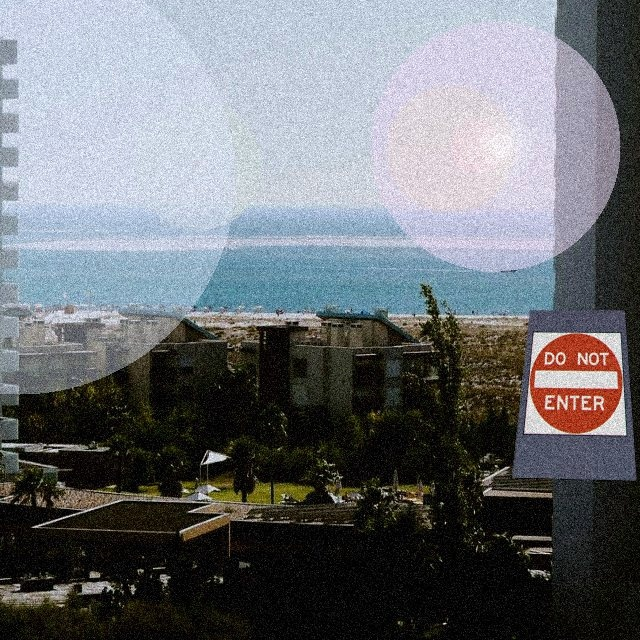DO_NOT_ENTER: (518, 324, 628, 443)
